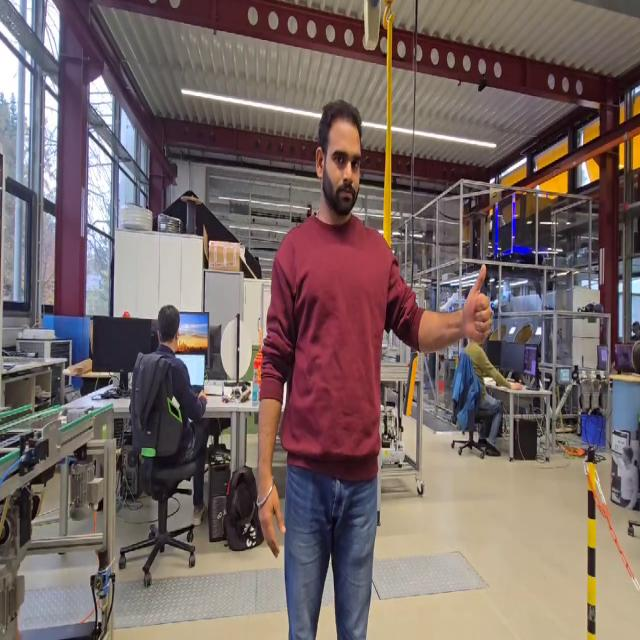thumbs_up: (459, 260, 496, 351)
